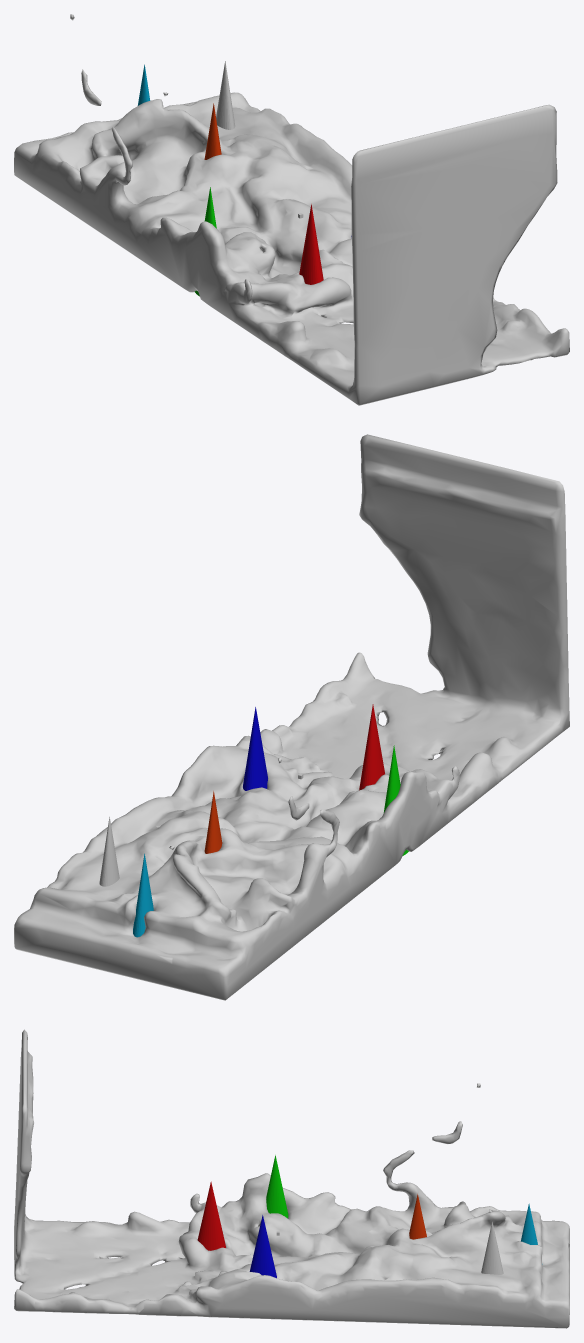
3 renders of one model, top to bottom at view 1: azimuth 30°, elevation 25°; view 2: azimuth 150°, elevation 25°; view 3: azimuth 270°, elevation 25°, orthographic. The views are drawn at different scales.
Parts seen in each view (by area): view 1: Liquid_Domain, 円錐.001, 円錐, 円錐.004; view 2: Liquid_Domain, 円錐.002, 円錐.001, 円錐.005, 円錐; view 3: Liquid_Domain, 円錐.001, 円錐.002, 円錐.003, 円錐, 円錐.004, 円錐.005.
Boxes of the visible parts, <box> form: Liquid_Domain: <box>14,14,569,405</box>; 円錐.001: <box>299,204,323,284</box>; 円錐: <box>216,61,235,129</box>; 円錐.004: <box>204,103,221,159</box>; Liquid_Domain: <box>14,434,569,1000</box>; 円錐.002: <box>243,707,267,790</box>; 円錐.001: <box>359,704,384,790</box>; 円錐.005: <box>133,853,153,937</box>; 円錐: <box>99,817,119,886</box>; Liquid_Domain: <box>14,1029,569,1328</box>; 円錐.001: <box>197,1181,225,1250</box>; 円錐.002: <box>249,1215,276,1278</box>; 円錐.003: <box>266,1155,288,1218</box>; 円錐: <box>481,1221,503,1274</box>; 円錐.004: <box>409,1194,426,1239</box>; 円錐.005: <box>521,1203,542,1264</box>.
Bounding box in the file's own units: 129 × 158 × 361.
